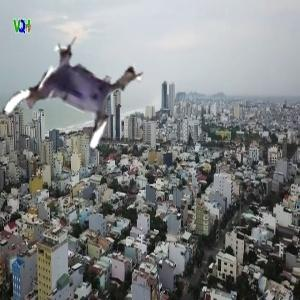drone: (10, 29, 140, 159)
